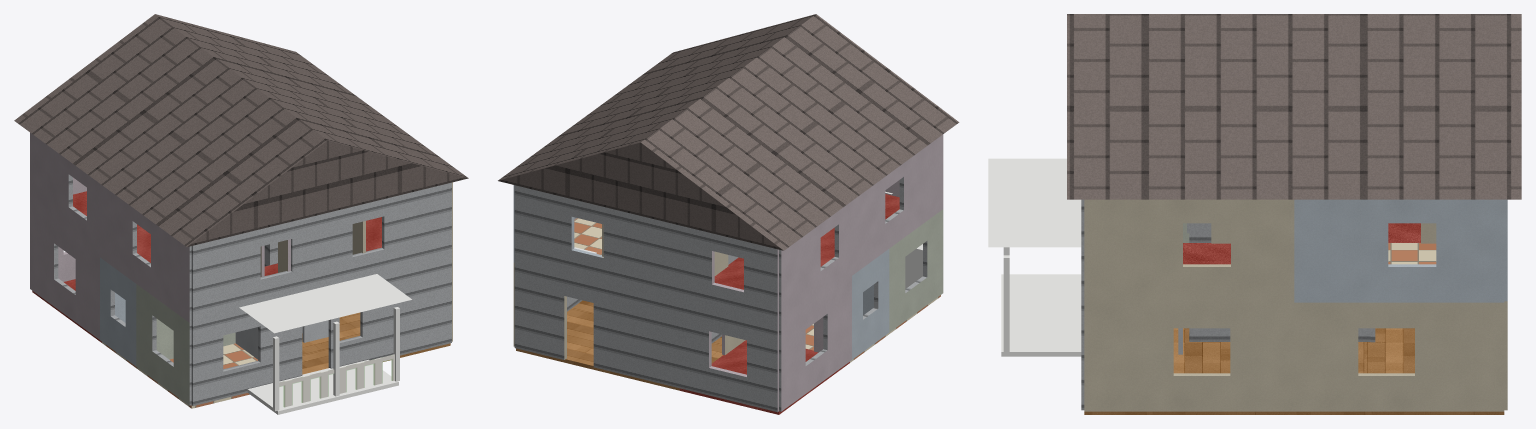
Rendered from house1.glb.
The picture shows the model from 3 angles, left to right: view 1: azimuth 30°, elevation 25°; view 2: azimuth 150°, elevation 25°; view 3: azimuth 270°, elevation 25°; orthographic projection. The views are drawn at different scales.
Parts seen in each view (by area): view 1: house1_247_structure-col; view 2: house1_247_structure-col; view 3: house1_247_structure-col.
Boxes of the visible parts, x1,y1,x2,y2 form: house1_247_structure-col: (14, 14, 468, 414); house1_247_structure-col: (498, 14, 959, 414); house1_247_structure-col: (988, 14, 1521, 414).
Size of the model in its own units: 9.8 by 8.02 by 12.2.
Materials: 15 (11 with a texture image).
